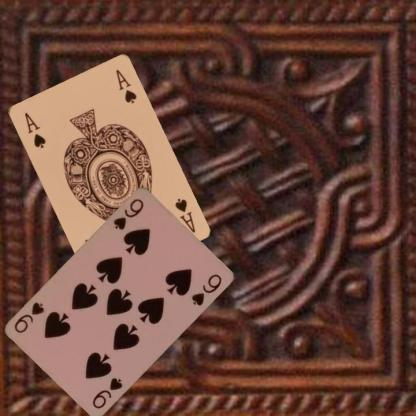9s: (110, 196, 145, 233), (90, 374, 124, 410)
As: (21, 110, 47, 150), (172, 195, 196, 234)
